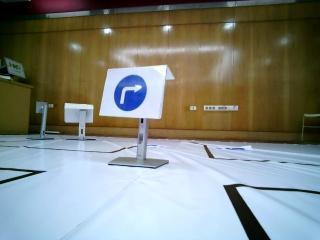right: (109, 70, 154, 116)
